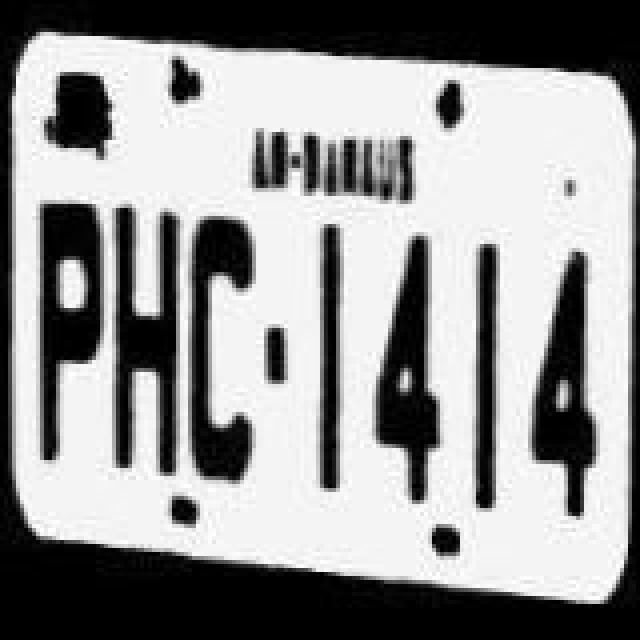1: (296, 214, 356, 490), (462, 214, 510, 510)
4: (528, 232, 608, 528), (372, 224, 448, 508)
C: (184, 212, 268, 496)
H: (108, 198, 192, 462)
P: (28, 184, 112, 472)
